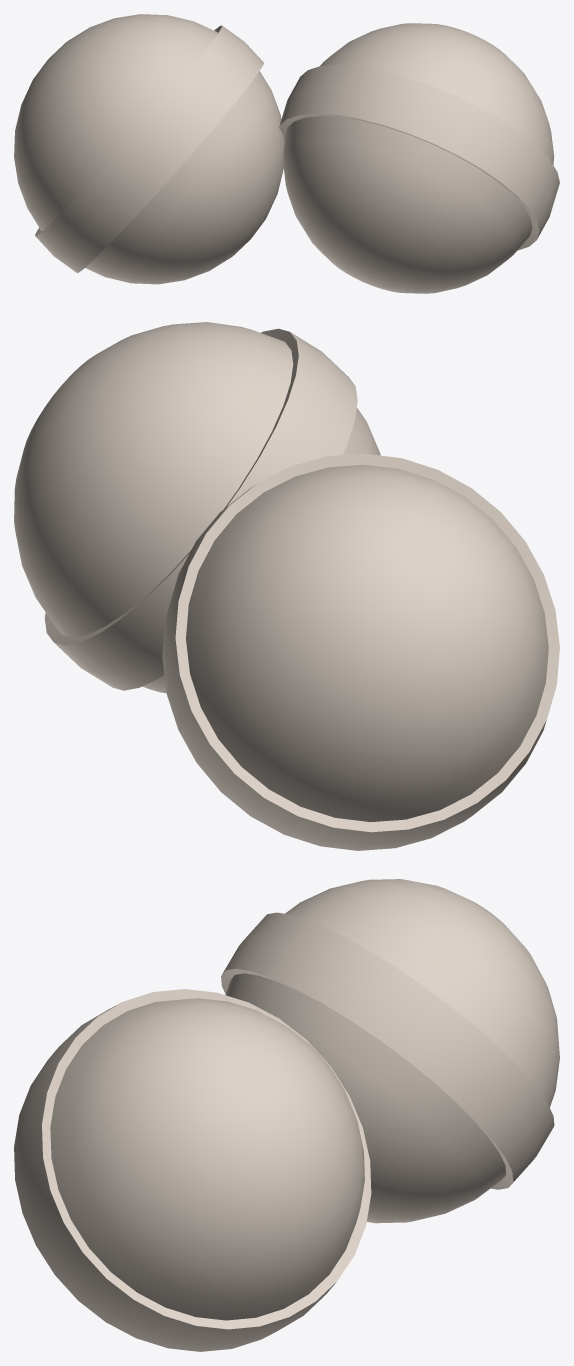
The model's file is candy.fbx.
3 renders of one model, top to bottom at view 1: azimuth 30°, elevation 25°; view 2: azimuth 150°, elevation 25°; view 3: azimuth 270°, elevation 25°, orthographic. The views are drawn at different scales.
Visible parts, largest first — view 1: 球.001, 球; view 2: 球, 球.001; view 3: 球.001, 球.
Boxes of the visible parts, x1,y1,x2,y2 form: 球.001: (279, 23, 559, 293); 球: (14, 14, 284, 284); 球: (162, 453, 559, 850); 球.001: (14, 322, 380, 693); 球.001: (14, 989, 371, 1351); 球: (221, 879, 559, 1223).
Size of the model in its own units: 7.99 by 4.38 by 6.96.
